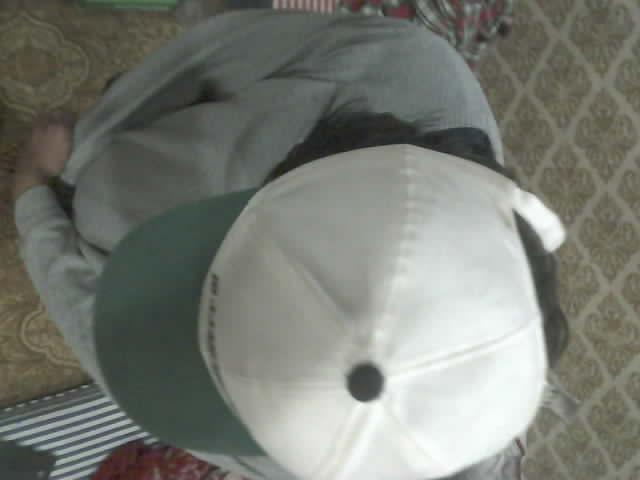cap: (92, 145, 566, 479)
